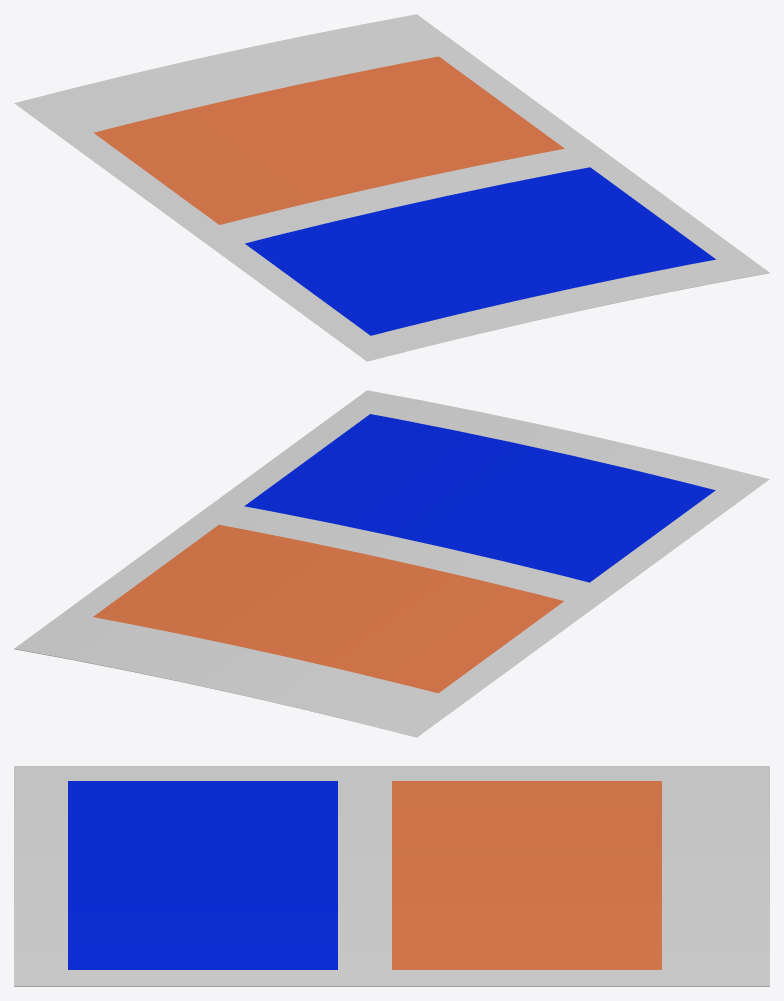
Rendered from Comic_Page_2_V4.fbx.
3 renders of one model, top to bottom at view 1: azimuth 30°, elevation 25°; view 2: azimuth 150°, elevation 25°; view 3: azimuth 270°, elevation 25°, orthographic. The views are drawn at different scales.
Visible parts, largest first — view 1: Book_Page_1_V4; view 2: Book_Page_1_V4; view 3: Book_Page_1_V4.
Boxes of the visible parts, x1=… form: Book_Page_1_V4: x1=14, y1=14, x2=769, y2=361; Book_Page_1_V4: x1=14, y1=390, x2=769, y2=737; Book_Page_1_V4: x1=14, y1=766, x2=769, y2=986.
Bounding box in the file's own units: 101 × 2.47 × 153.
